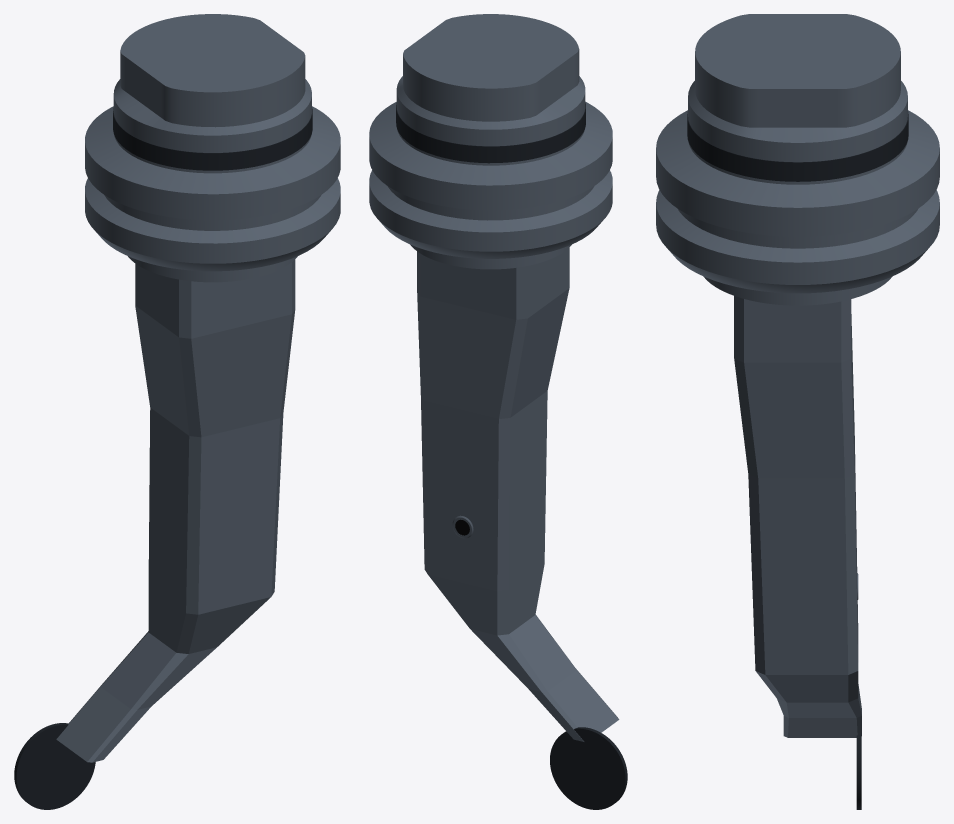
The model's file is wheel_cranked_32.obj.
3 views of the same model, side by side, from view 1: azimuth 30°, elevation 25°; view 2: azimuth 150°, elevation 25°; view 3: azimuth 270°, elevation 25° (orthographic). The views are drawn at different scales.
Visible parts, largest first — view 1: wheel_cranked_32_faceted_blade.002, wheel_cranked_32_stepped_coupling.002, wheel_cranked_32_seat.005, wheel_cranked_32_locking_collar.002; view 2: wheel_cranked_32_faceted_blade.002, wheel_cranked_32_stepped_coupling.002, wheel_cranked_32_seat.005, wheel_cranked_32_locking_collar.002; view 3: wheel_cranked_32_stepped_coupling.002, wheel_cranked_32_faceted_blade.002, wheel_cranked_32_locking_collar.002.
Part boxes in pixels (x1,y1,x2,y2): wheel_cranked_32_faceted_blade.002: (56, 259, 295, 762); wheel_cranked_32_stepped_coupling.002: (85, 14, 340, 282); wheel_cranked_32_seat.005: (14, 723, 95, 809); wheel_cranked_32_locking_collar.002: (113, 107, 312, 170); wheel_cranked_32_faceted_blade.002: (417, 247, 619, 741); wheel_cranked_32_stepped_coupling.002: (369, 14, 612, 269); wheel_cranked_32_seat.005: (550, 727, 627, 809); wheel_cranked_32_locking_collar.002: (396, 103, 585, 163); wheel_cranked_32_stepped_coupling.002: (656, 14, 939, 305); wheel_cranked_32_faceted_blade.002: (734, 296, 861, 737); wheel_cranked_32_locking_collar.002: (687, 111, 908, 181).
Size of the model in its own units: 101 by 256 by 80.
